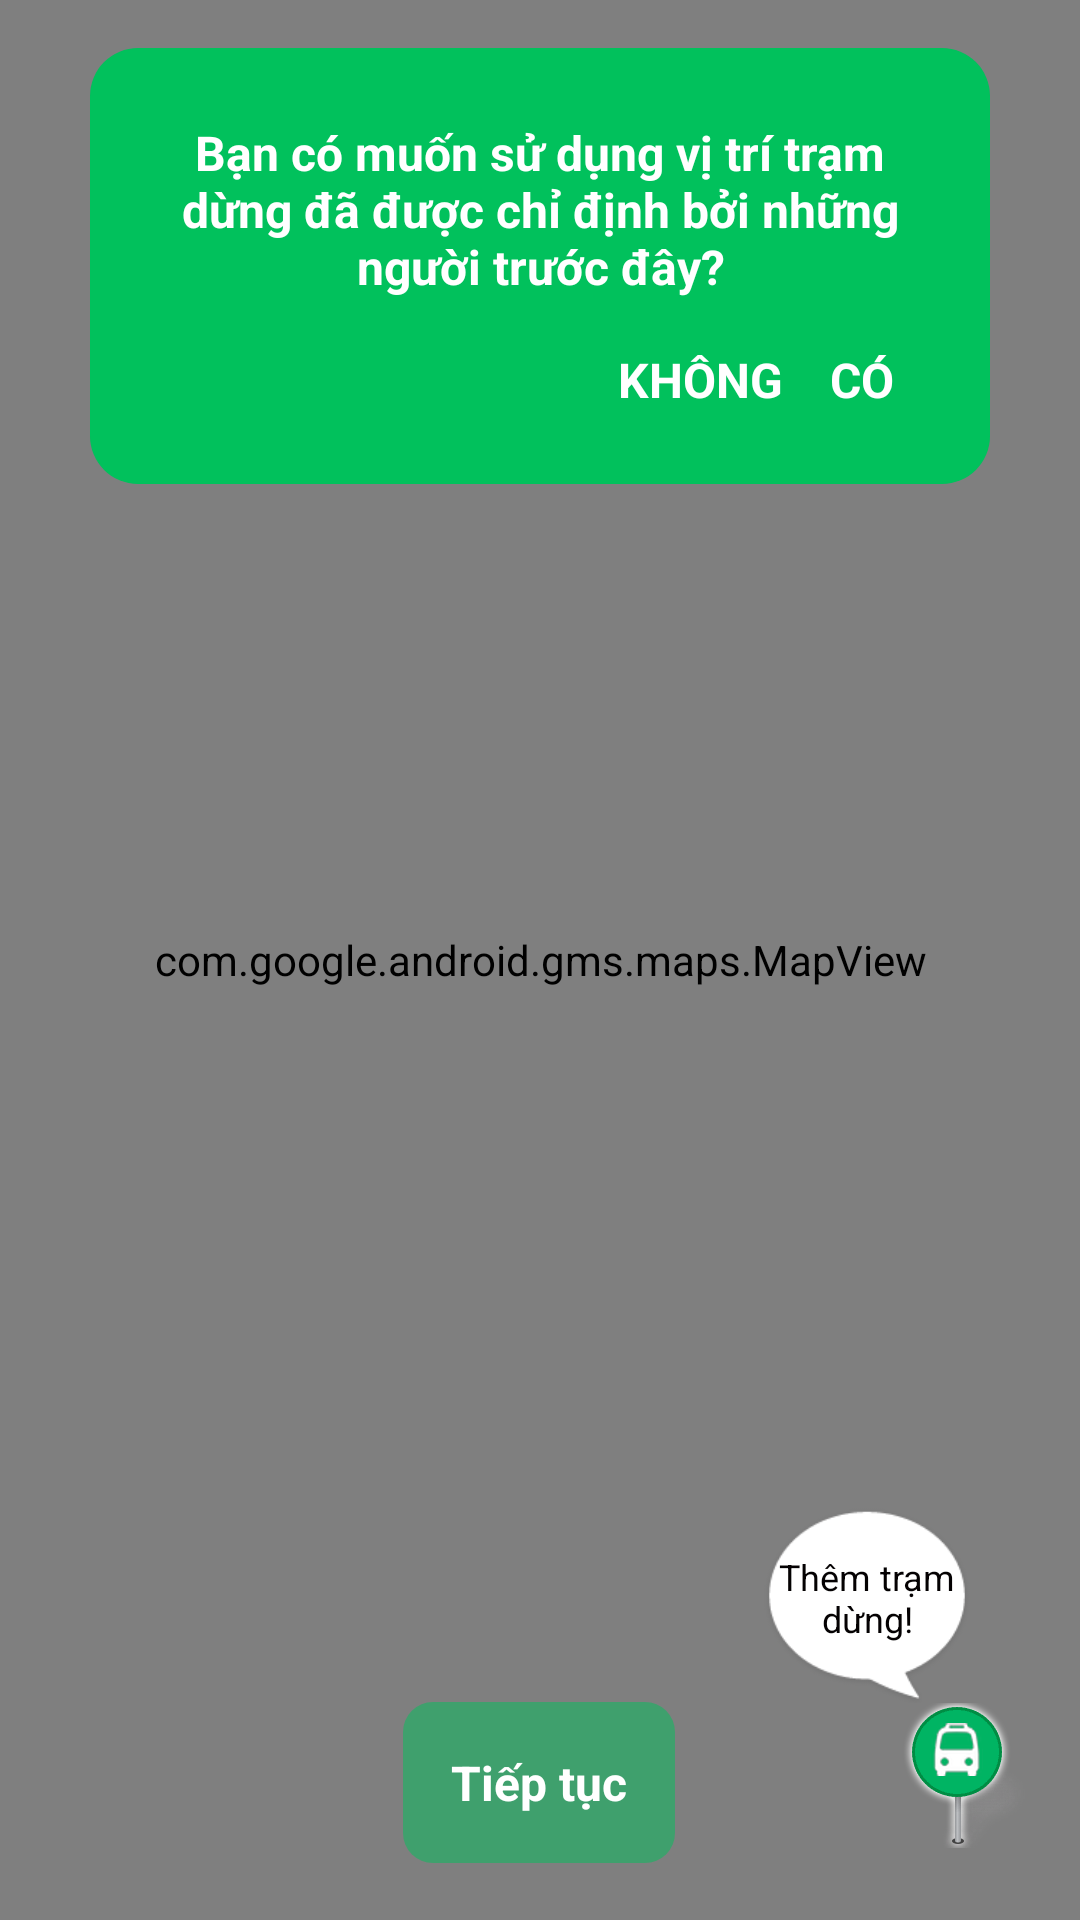

Locate icon controls on the screen. Image size 1080px x 1920px, boxes as bbox=[x1, y1, x2, y2].
pin glow: bbox=[907, 1703, 1007, 1848]
